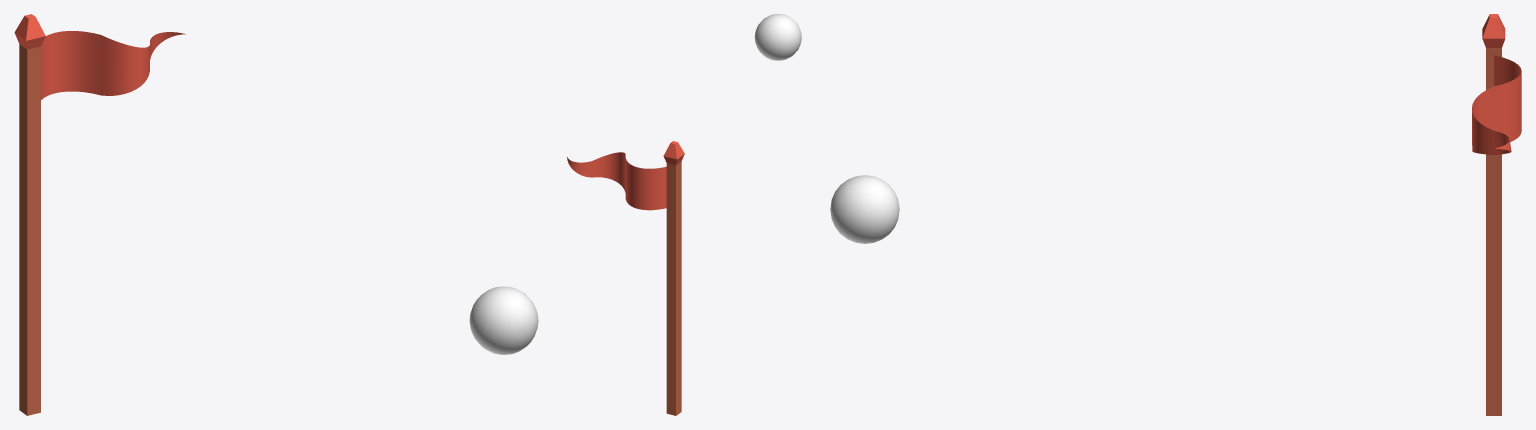
Rendered from Level_1_1_Locked_Grabbable.fbx.
3 renders of one model, left to right at view 1: azimuth 30°, elevation 25°; view 2: azimuth 150°, elevation 25°; view 3: azimuth 270°, elevation 25°, orthographic. The views are drawn at different scales.
Parts seen in each view (by area): view 1: detail_flag, sphere; view 2: detail_flag, sphere; view 3: detail_flag, sphere.
Boxes of the visible parts, x1,y1,x2,y2 form: detail_flag: [14, 14, 185, 415]; sphere: [469, 286, 538, 354]; detail_flag: [567, 141, 684, 415]; sphere: [754, 14, 801, 60]; detail_flag: [1472, 14, 1521, 415]; sphere: [830, 175, 899, 243].
Size of the model in its own units: 4.21 by 7.92 by 12.5.
